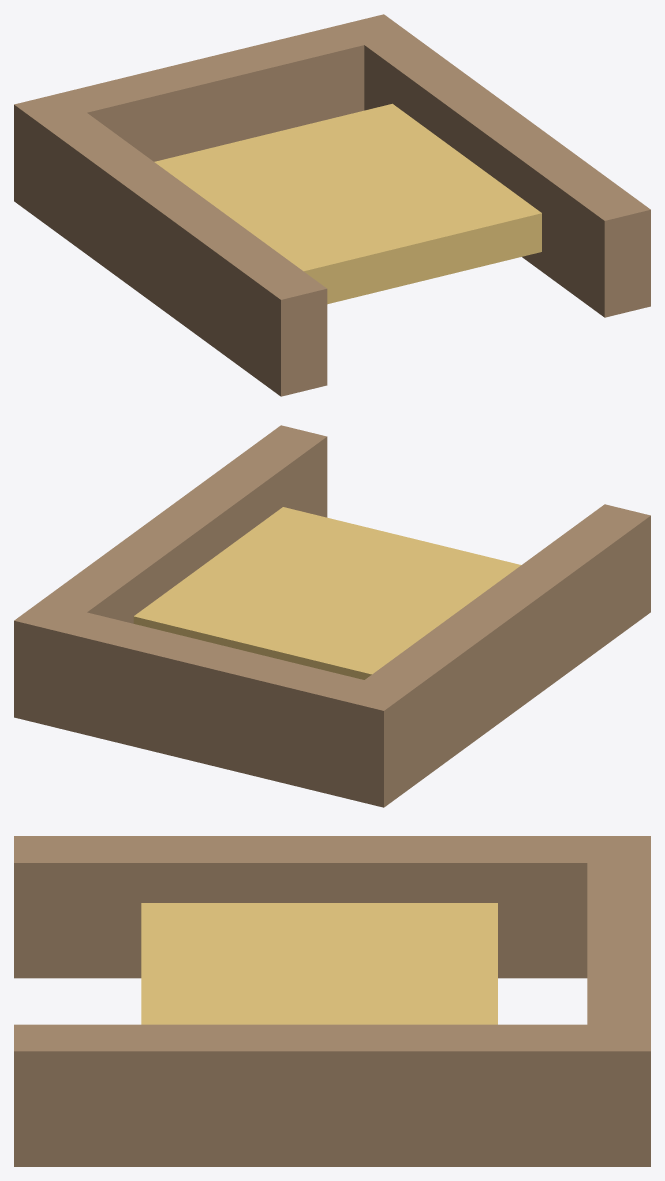
File: gong_held.gltf
3 views of the same model, one above another, from view 1: azimuth 30°, elevation 25°; view 2: azimuth 150°, elevation 25°; view 3: azimuth 270°, elevation 25° (orthographic). The views are drawn at different scales.
Parts seen in each view (by area): view 1: arena_gong_held; view 2: arena_gong_held; view 3: arena_gong_held.
Boxes of the visible parts, box(x1,y1,x2,y2) form: arena_gong_held: box(14, 14, 650, 396); arena_gong_held: box(14, 425, 650, 807); arena_gong_held: box(14, 836, 650, 1166).
Bounding box in the file's own units: 0.128 × 0.032 × 0.16.
